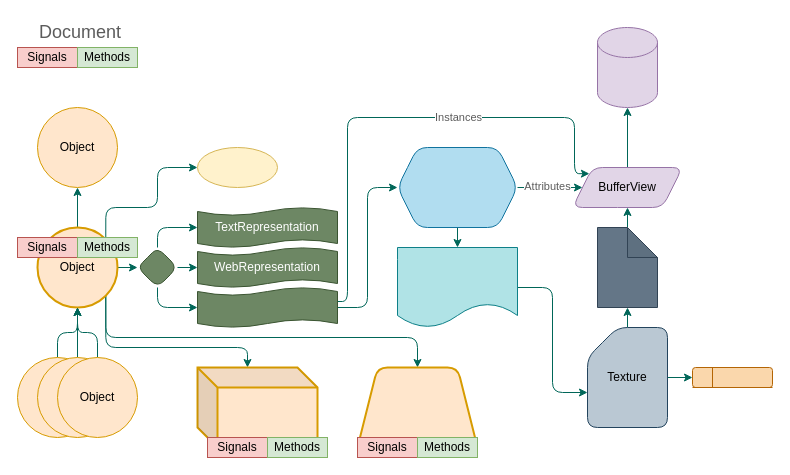
The diagram is 790 pixels wide and 475 high, and some of its shapes have lost their labels. The shapes that lost their labels are listed below. From the top down, each one's box as (x1, y1, x2, y2) in pixels, then its label:
(596, 26, 658, 108): Buffer
(196, 146, 278, 188): Light
(396, 146, 518, 228): Mesh
(396, 246, 518, 328): Material
(596, 226, 658, 308): Image
(196, 286, 338, 328): RenderRepresentation
(692, 366, 772, 388): Sampler
(196, 366, 318, 448): Table
(356, 366, 478, 448): Plot
